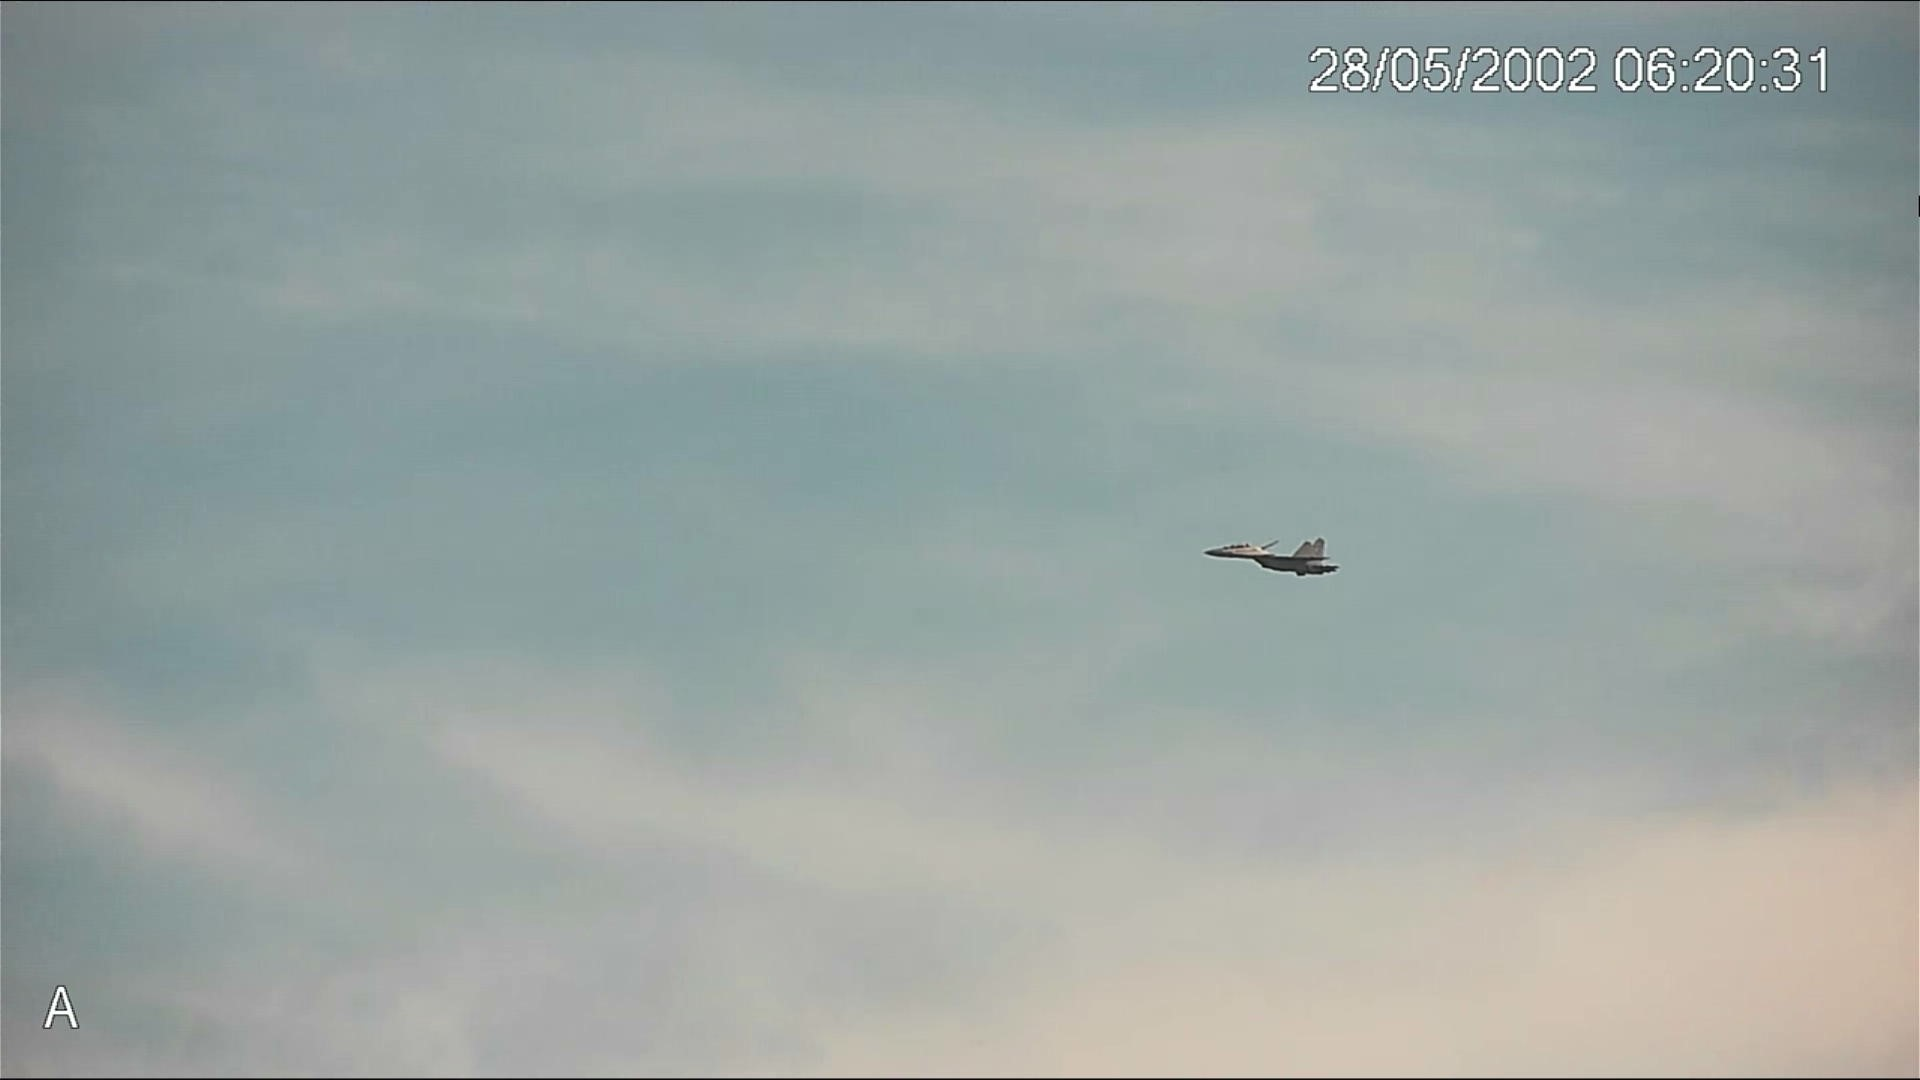SU_30: (1203, 531, 1341, 584)
